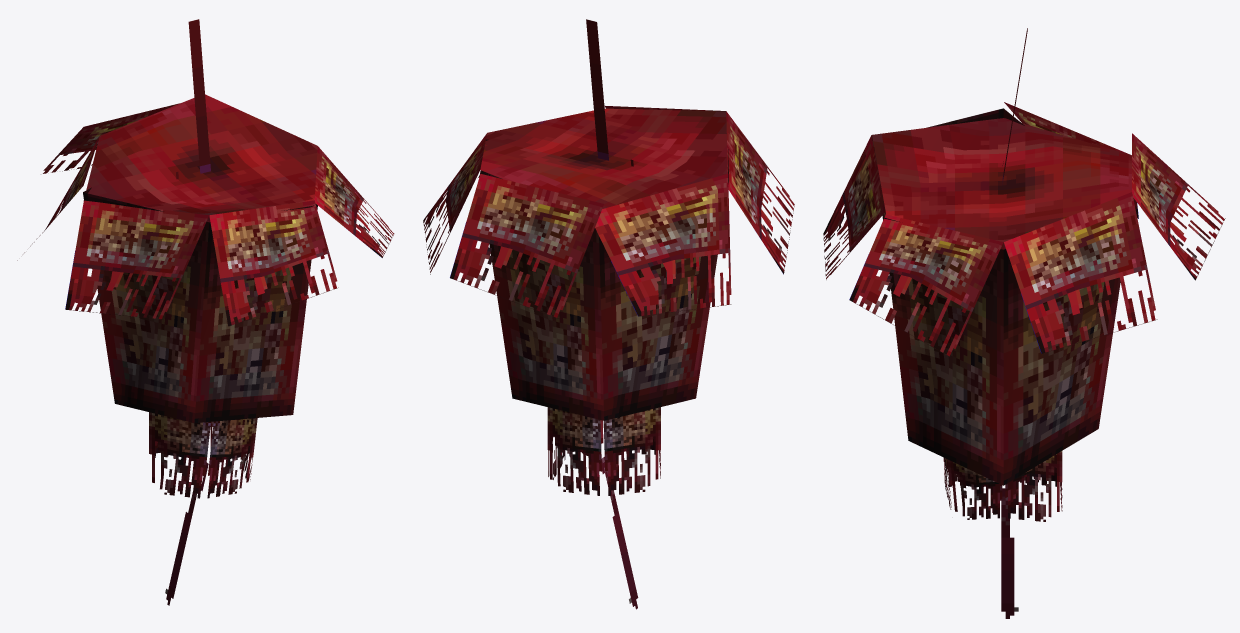
The model's file is USA - Prop - Garden Path Lantern 02 - Damaged - PAChnLntn02_d.glb.
3 views of the same model, side by side, from view 1: azimuth 30°, elevation 25°; view 2: azimuth 150°, elevation 25°; view 3: azimuth 270°, elevation 25° (orthographic). The views are drawn at different scales.
Visible parts, largest first — view 1: PACHNLNTN02_D; view 2: PACHNLNTN02_D; view 3: PACHNLNTN02_D.
Part boxes in pixels (x1,y1,x2,y2): PACHNLNTN02_D: (17,19,394,605); PACHNLNTN02_D: (423,19,794,609); PACHNLNTN02_D: (823,28,1225,618).
Bounding box in the file's own units: 4.44 × 7.49 × 4.49.
Materials: 1 (1 with a texture image).
